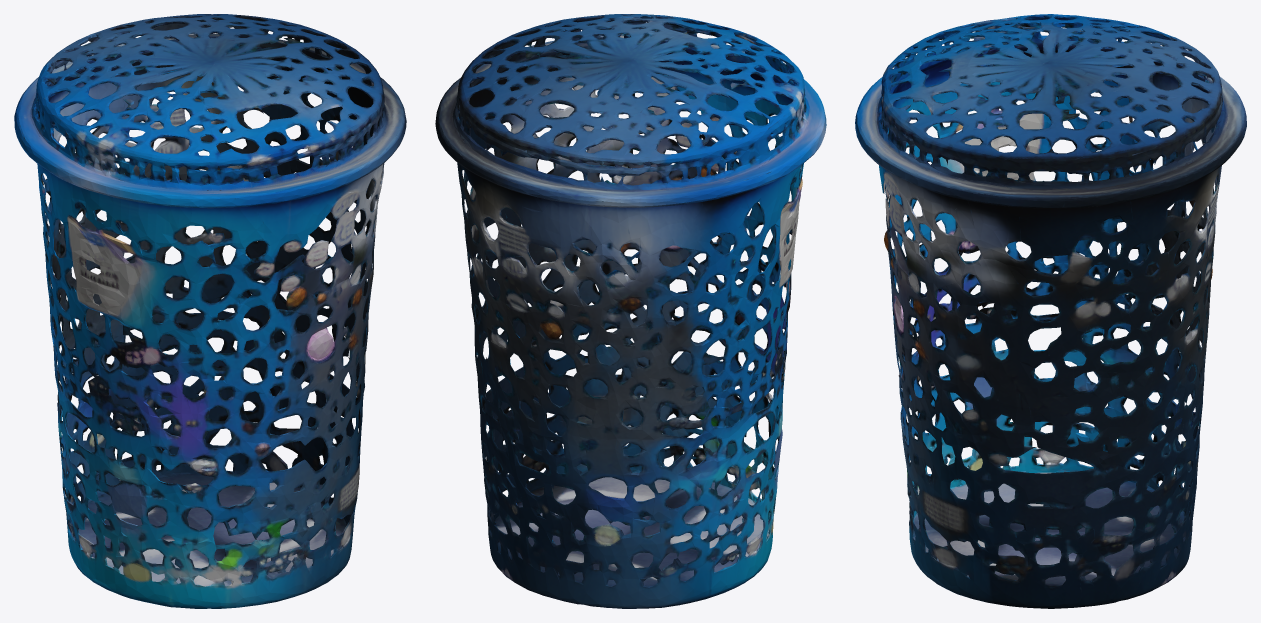
The model's file is Trashcan.glb.
3 views of the same model, side by side, from view 1: azimuth 30°, elevation 25°; view 2: azimuth 150°, elevation 25°; view 3: azimuth 270°, elevation 25° (orthographic).
Visible parts, largest first — view 1: world; view 2: world; view 3: world.
Boxes of the visible parts, x1,y1,x2,y2 form: world: [14, 14, 406, 608]; world: [435, 14, 826, 608]; world: [855, 14, 1246, 608].
Size of the model in its own units: 0.7246 by 0.9995 by 0.728.
1 material, 1 textured.
